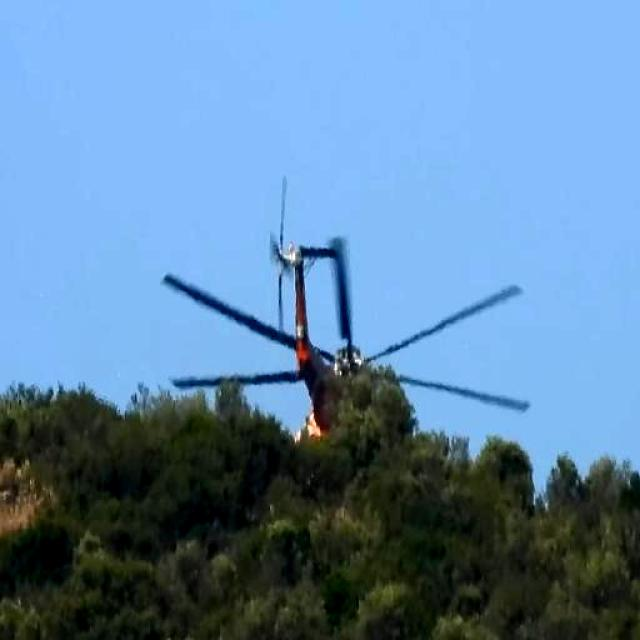drone: (162, 200, 532, 409)
